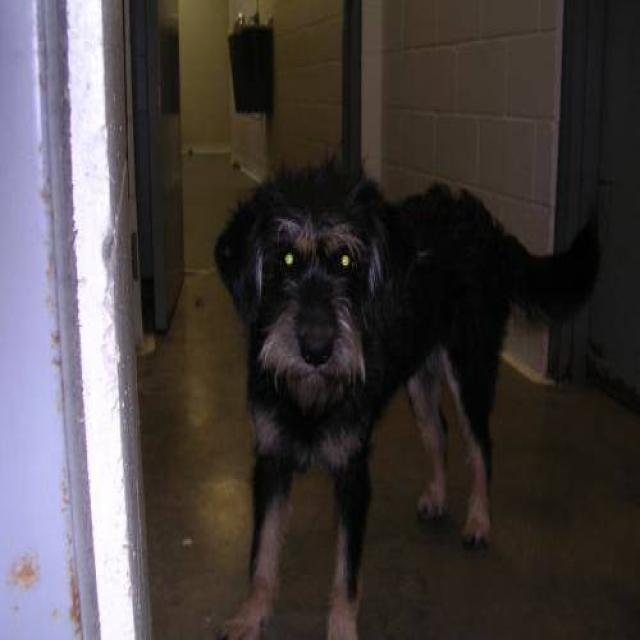dog: (212, 152, 600, 638)
